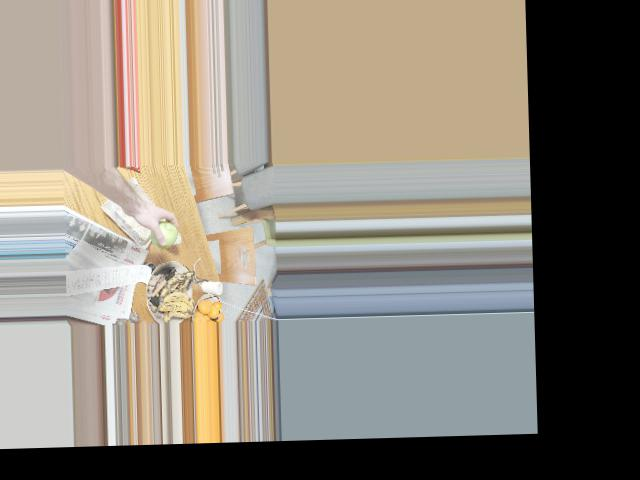apple: (144, 217, 180, 248)
